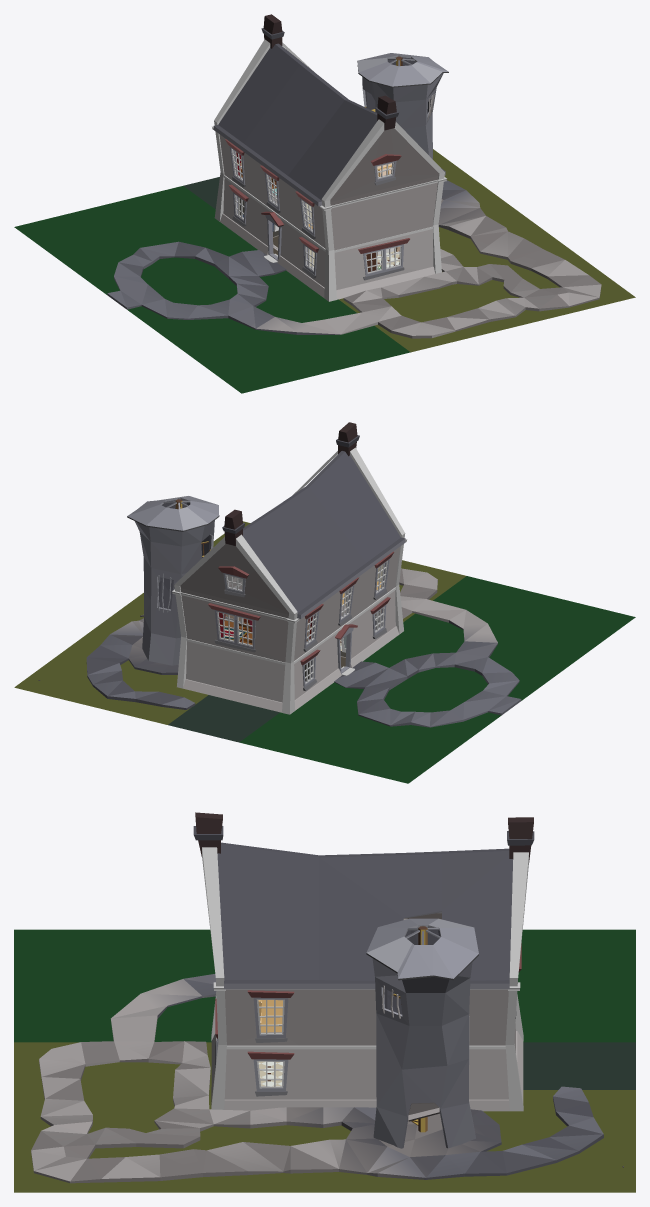
3 views of the same model, one above another, from view 1: azimuth 30°, elevation 25°; view 2: azimuth 150°, elevation 25°; view 3: azimuth 270°, elevation 25° (orthographic). The views are drawn at different scales.
Parts seen in each view (by area): view 1: Ext_Suelo, Ext_Camino, House_ParedExterna.002, House_Techo, House_Vigas, Faro_Estructura, House_Entrada; view 2: Ext_Suelo, House_ParedExterna.002, Ext_Camino, House_Techo, House_Vigas, Faro_Estructura, House_Entrada; view 3: Ext_Suelo, Ext_Camino, House_Techo, Faro_Estructura, House_ParedExterna.002, House_Vigas, House_Entrada, House_Pisos.008.
Boxes of the visible parts, x1=… form: Ext_Suelo: x1=14, y1=149, x2=635, y2=393; Ext_Camino: x1=107, y1=180, x2=601, y2=338; House_ParedExterna.002: x1=219, y1=128, x2=438, y2=289; House_Techo: x1=213, y1=43, x2=445, y2=206; House_Vigas: x1=212, y1=14, x2=446, y2=301; Faro_Estructura: x1=357, y1=53, x2=448, y2=159; House_Entrada: x1=225, y1=139, x2=409, y2=280; Ext_Suelo: x1=14, y1=521, x2=635, y2=783; House_ParedExterna.002: x1=180, y1=544, x2=399, y2=702; Ext_Camino: x1=86, y1=568, x2=521, y2=727; House_Techo: x1=173, y1=451, x2=405, y2=618; House_Vigas: x1=172, y1=422, x2=407, y2=714; Faro_Estructura: x1=127, y1=496, x2=219, y2=665; House_Entrada: x1=208, y1=551, x2=394, y2=690; Ext_Suelo: x1=14, y1=929, x2=635, y2=1192; Ext_Camino: x1=31, y1=974, x2=603, y2=1183; House_Techo: x1=217, y1=842, x2=513, y2=989; Faro_Estructura: x1=366, y1=918, x2=478, y2=1148; House_ParedExterna.002: x1=224, y1=989, x2=515, y2=1099; House_Vigas: x1=193, y1=812, x2=534, y2=1111; House_Entrada: x1=215, y1=943, x2=521, y2=1096; House_Pisos.008: x1=260, y1=1000, x2=282, y2=1032.
Size of what is drawn, in the model's own units: 48 by 22.1 by 48.
Materials: 4 (3 with a texture image).
